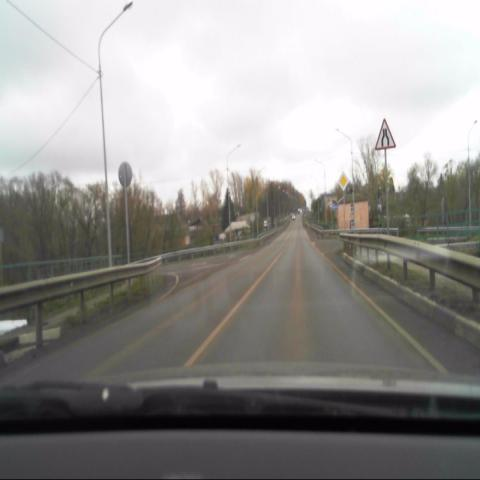1_20: (374, 117, 396, 150)
